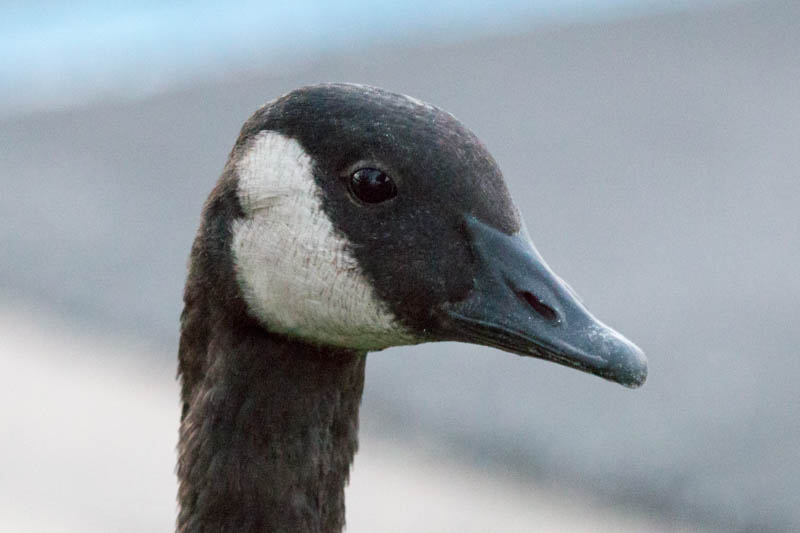goose-head: (179, 83, 649, 387)
